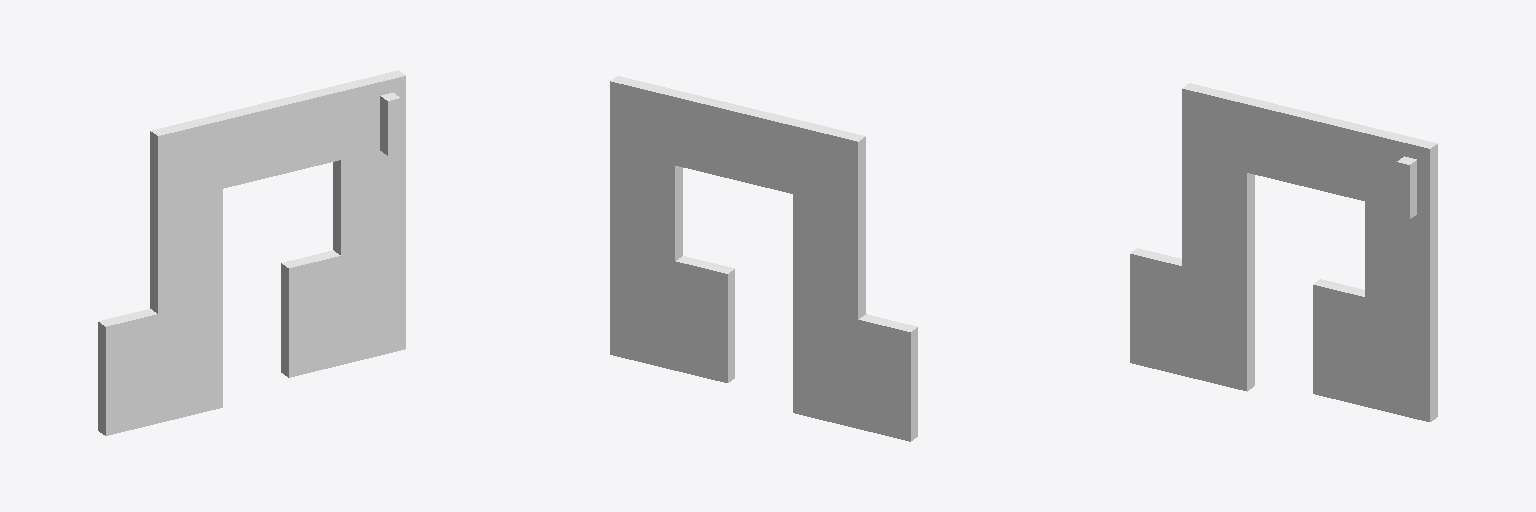
Rendered from music_note.obj.
The picture shows the model from 3 angles: view 1: azimuth 30°, elevation 25°; view 2: azimuth 150°, elevation 25°; view 3: azimuth 330°, elevation 25°; orthographic projection.
Visible parts, largest first — view 1: object 1; view 2: object 1; view 3: object 1.
Part boxes in pixels (left/top/right/bottom): object 1: left=98, top=70, right=405, bottom=435; object 1: left=610, top=76, right=917, bottom=441; object 1: left=1130, top=83, right=1437, bottom=421.
Bounding box in the file's own units: 2.3 × 2.1 × 0.2.